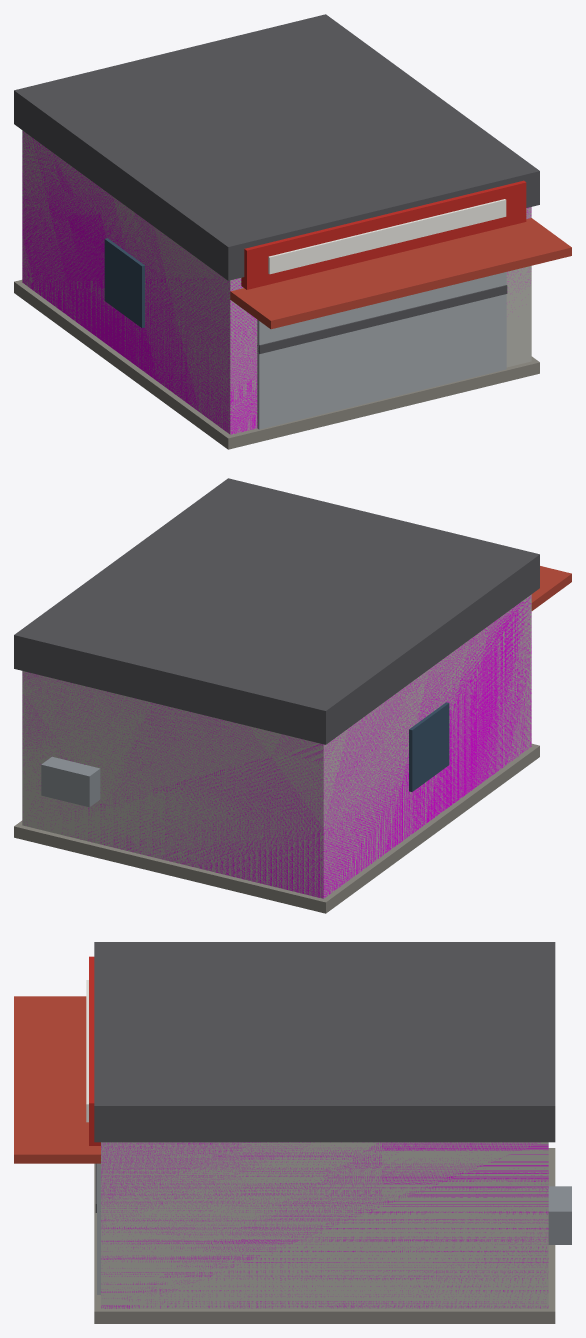
File: Shop_1S_01.glb
3 renders of one model, top to bottom at view 1: azimuth 30°, elevation 25°; view 2: azimuth 150°, elevation 25°; view 3: azimuth 270°, elevation 25°, orthographic. The views are drawn at different scales.
Parts seen in each view (by area): view 1: Shop_1S_01, Shop_1S_01_COL; view 2: Shop_1S_01, Shop_1S_01_COL; view 3: Shop_1S_01, Shop_1S_01_COL.
Part boxes in pixels (<box>): Shop_1S_01: <box>14,14,571,449</box>; Shop_1S_01_COL: <box>22,131,531,434</box>; Shop_1S_01: <box>14,478,571,913</box>; Shop_1S_01_COL: <box>22,595,531,898</box>; Shop_1S_01: <box>14,942,571,1323</box>; Shop_1S_01_COL: <box>101,1142,548,1308</box>.
Bounding box in the file's own units: 5.8 × 3.6 × 8.35.
